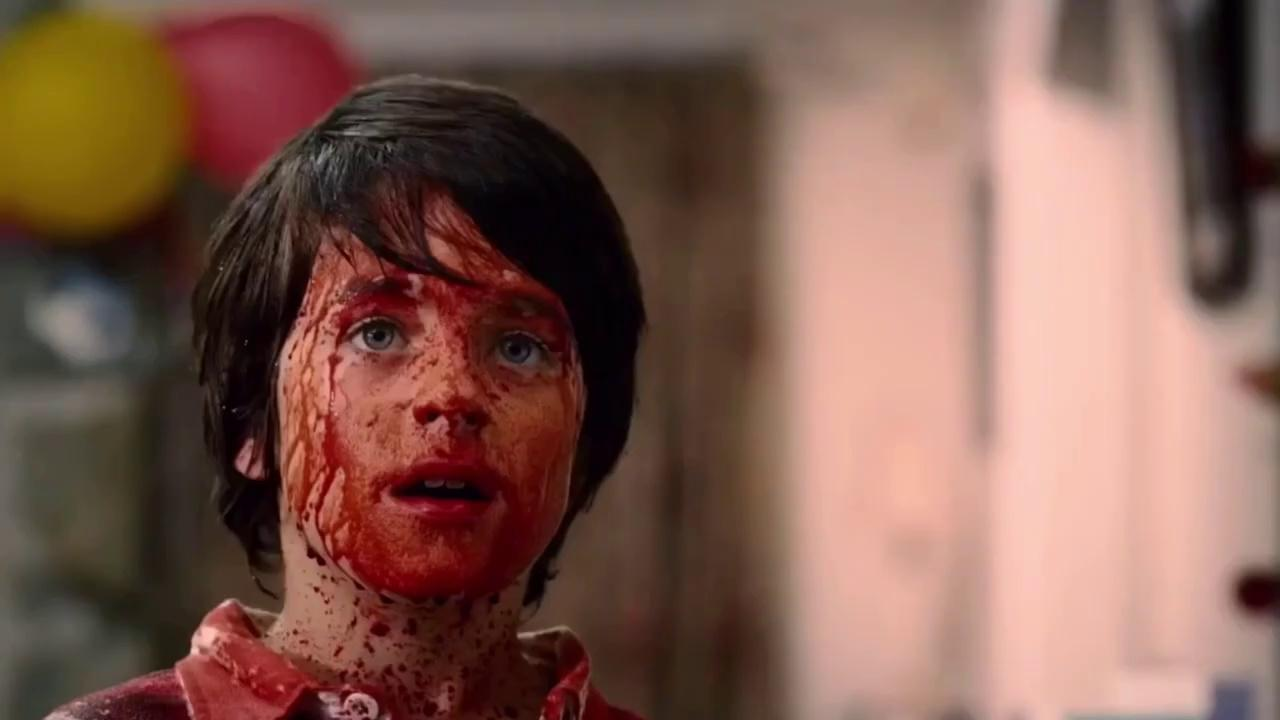Fire: (262, 200, 586, 718)
